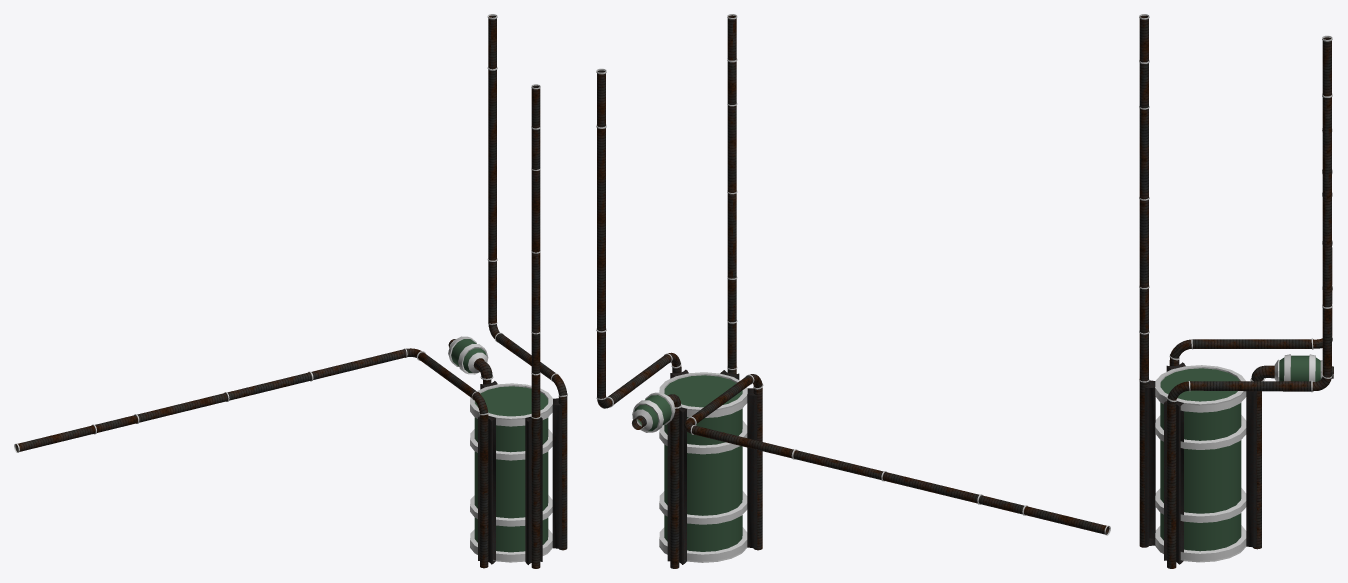
File: Ref_Capsule.fbx
The picture shows the model from 3 angles, left to right: view 1: azimuth 30°, elevation 25°; view 2: azimuth 150°, elevation 25°; view 3: azimuth 270°, elevation 25°; orthographic projection. The views are drawn at different scales.
Parts seen in each view (by area): view 1: Capsule; view 2: Capsule; view 3: Capsule.
Boxes of the visible parts, bbox=[...] form: Capsule: bbox=[14, 14, 567, 568]; Capsule: bbox=[596, 14, 1110, 568]; Capsule: bbox=[1139, 14, 1333, 568].
Size of the model in its own units: 738 by 706 by 235.
